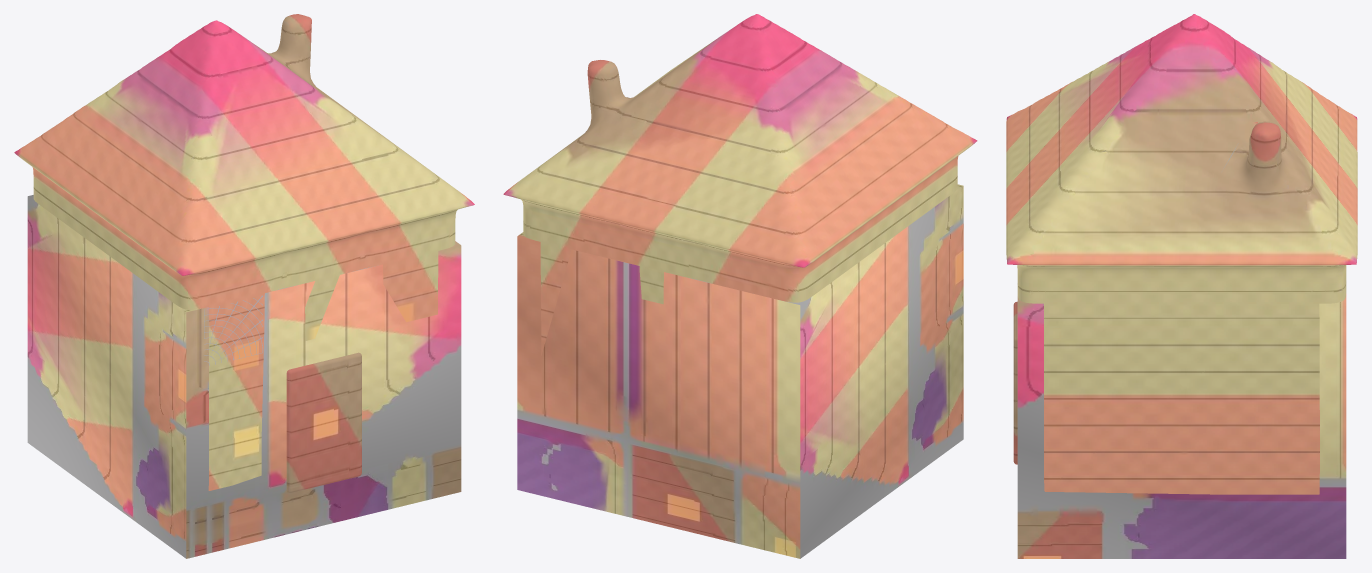
The model's file is house_bouncy.glb.
3 views of the same model, side by side, from view 1: azimuth 30°, elevation 25°; view 2: azimuth 150°, elevation 25°; view 3: azimuth 270°, elevation 25° (orthographic). The views are drawn at different scales.
Parts seen in each view (by area): view 1: lod0, col, door, cobweb; view 2: col, lod0; view 3: lod0, col, door.
Boxes of the visible parts, x1=… form: lod0: x1=14, y1=14, x2=474, y2=490; col: x1=27, y1=195, x2=461, y2=558; door: x1=286, y1=352, x2=361, y2=492; cobweb: x1=204, y1=295, x2=262, y2=365; col: x1=517, y1=184, x2=963, y2=558; lod0: x1=503, y1=14, x2=977, y2=355; lod0: x1=1006, y1=14, x2=1357, y2=494; col: x1=1017, y1=294, x2=1346, y2=558; door: x1=1013, y1=301, x2=1017, y2=464.
Size of what is drawn, in the model's own units: 7.48 by 10.89 by 7.48.
Materials: 2 (2 with a texture image).
